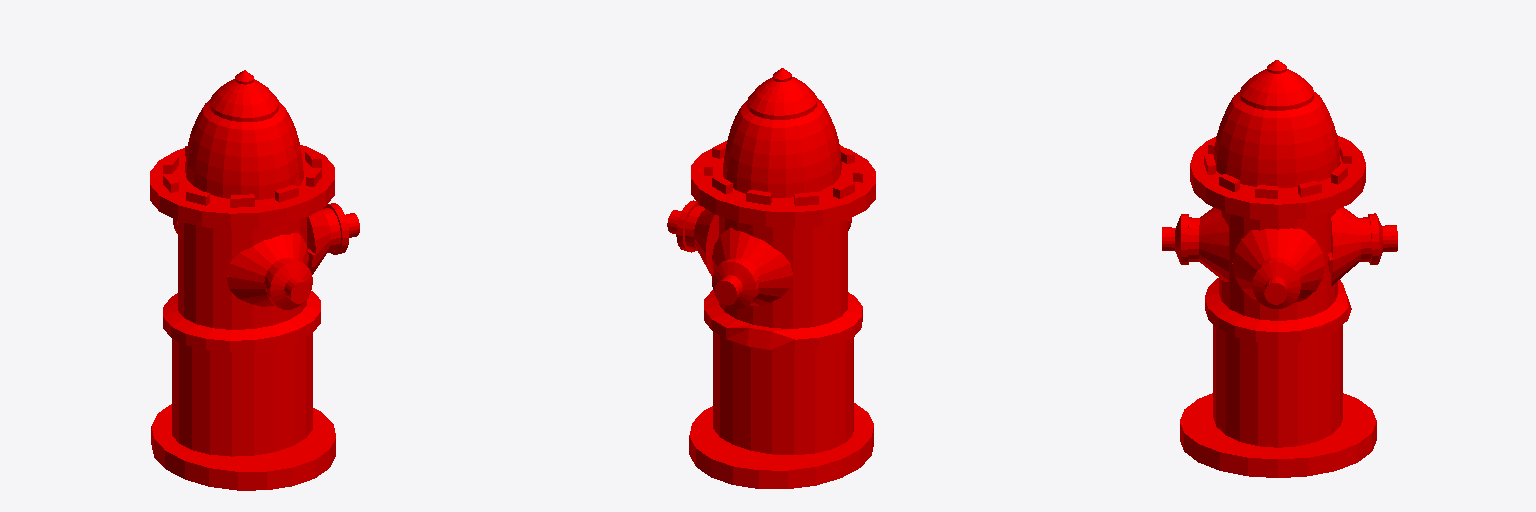
Rendered from hidrant.obj.
The picture shows the model from 3 angles: view 1: azimuth 30°, elevation 25°; view 2: azimuth 150°, elevation 25°; view 3: azimuth 270°, elevation 25°; orthographic projection.
Parts seen in each view (by area): view 1: hidrant:pCylinder5; view 2: hidrant:pCylinder5; view 3: hidrant:pCylinder5.
Part boxes in pixels (left/top/right/bottom): hidrant:pCylinder5: left=150, top=70, right=359, bottom=490; hidrant:pCylinder5: left=667, top=68, right=875, bottom=488; hidrant:pCylinder5: left=1162, top=60, right=1397, bottom=477.
Size of the model in its own units: 26.88 by 50.28 by 28.27.